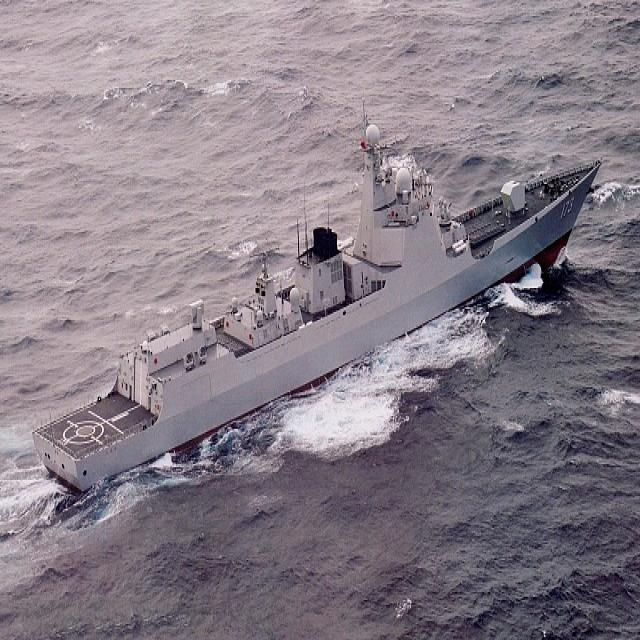Destroyer-Luyang-III-class-052-CHI: (25, 96, 598, 524)
